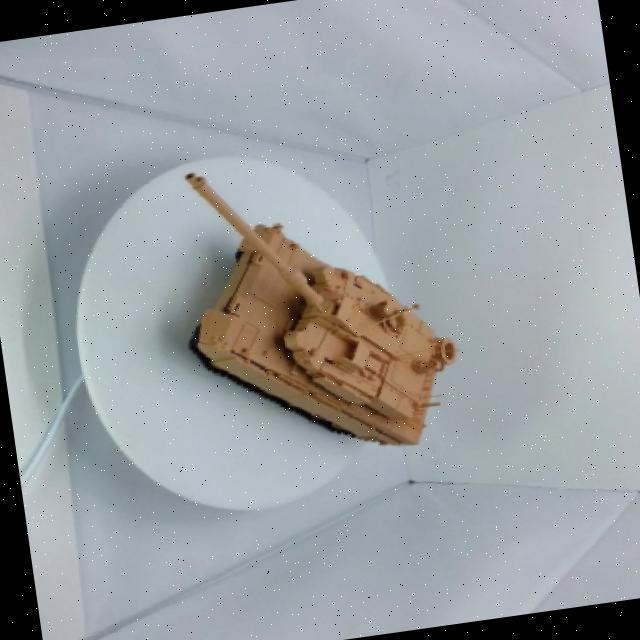korea tank: (134, 98, 492, 506)
